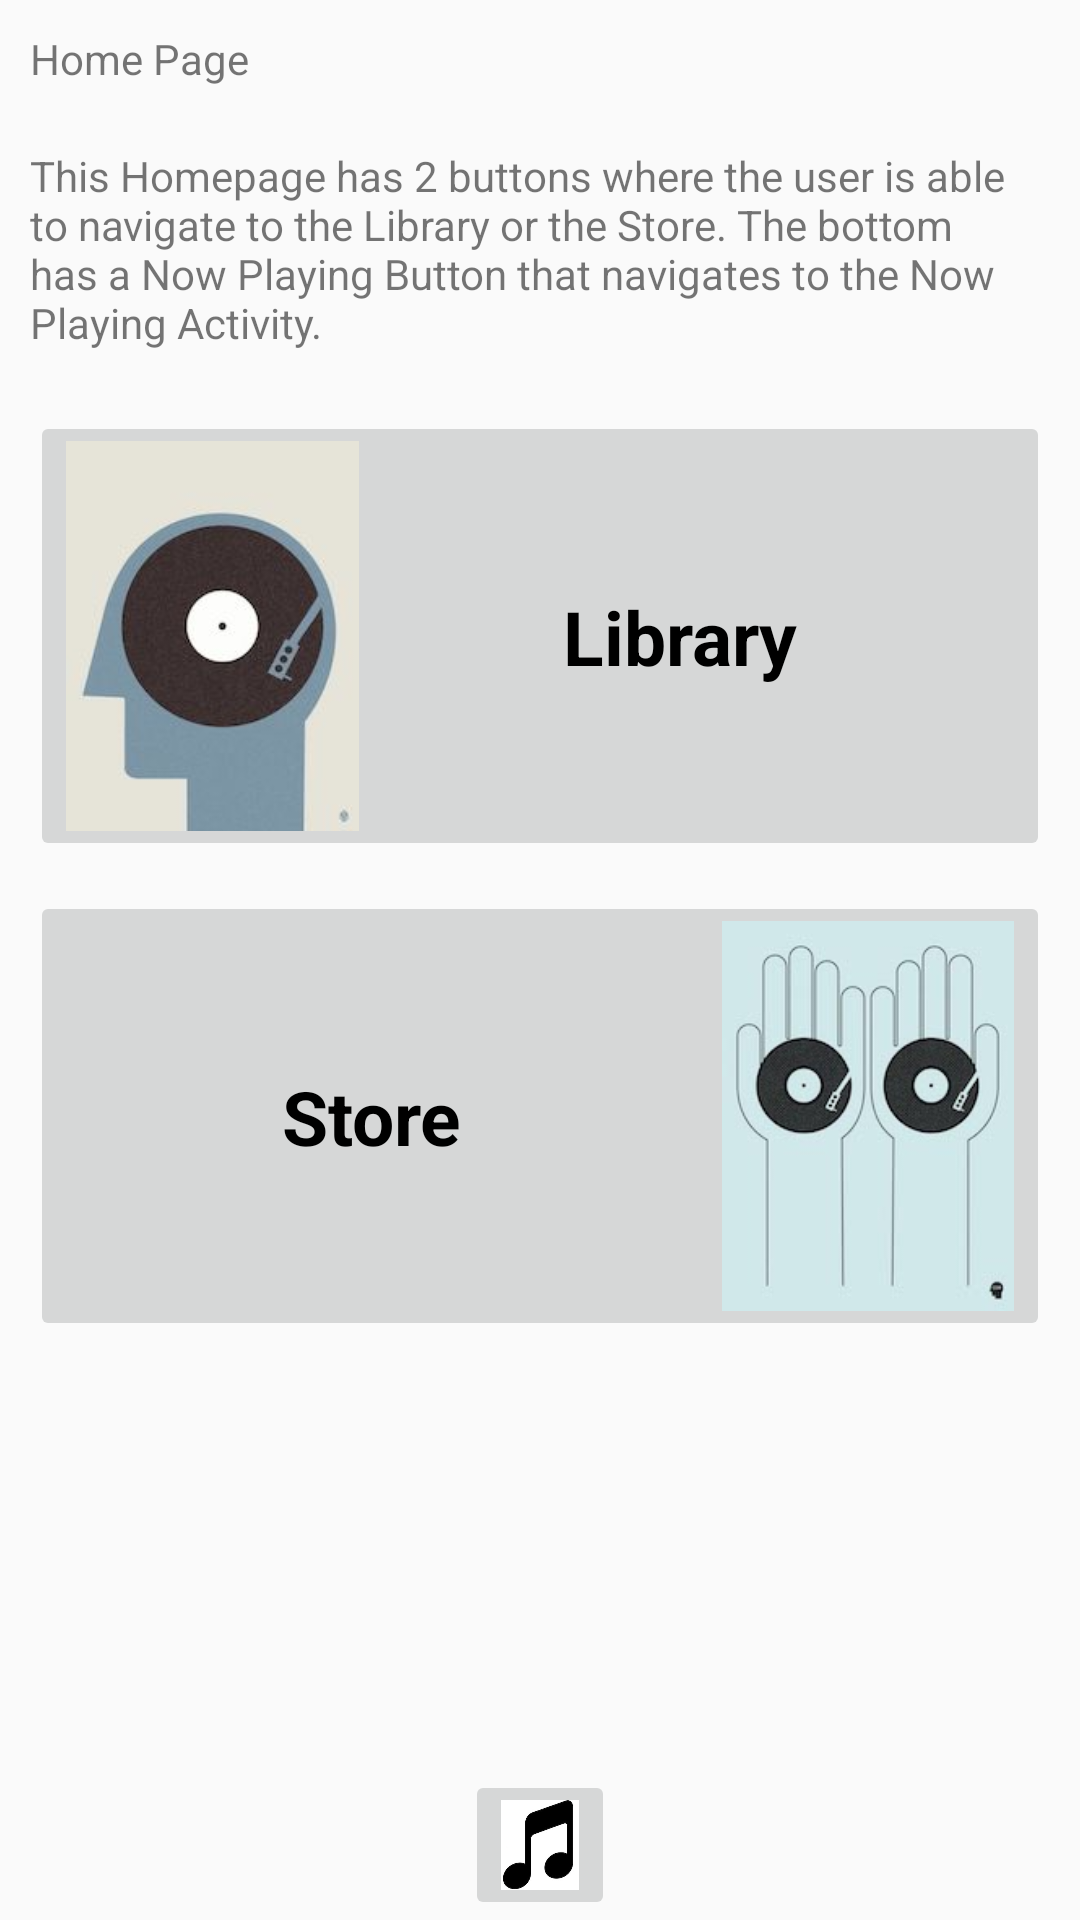

Where to tap for icons on this 1080x1920 app screen, as (x=x, y=y):
music note: (x=540, y=1845)
